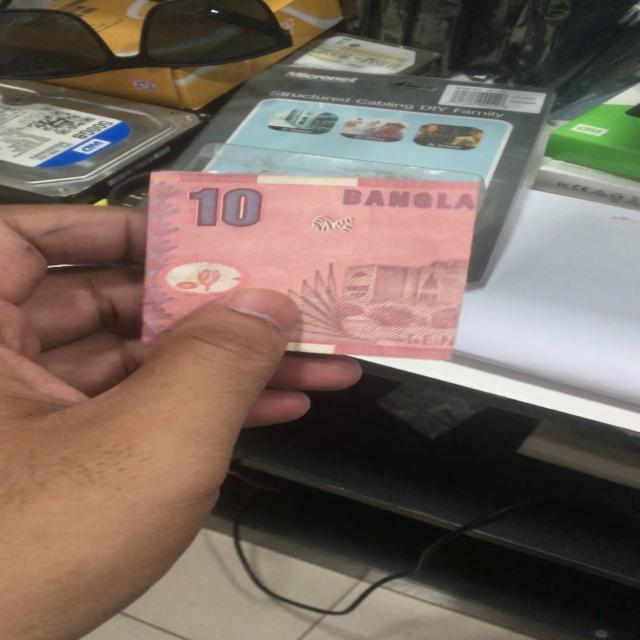Taka: (151, 174, 459, 352)
